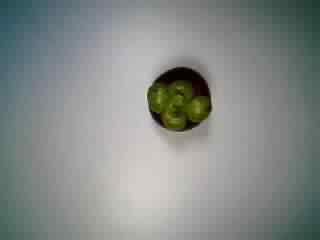mangosteen: (139, 63, 217, 138)
